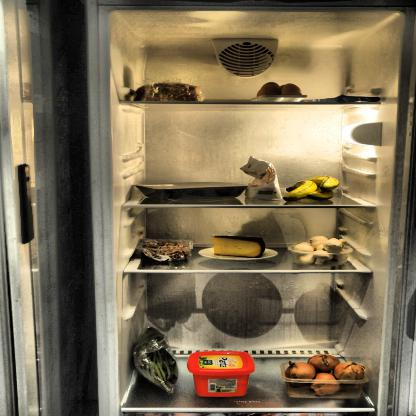banana: (283, 174, 343, 202)
butter: (188, 351, 256, 398)
cheese: (212, 235, 264, 260)
chocolate: (310, 95, 383, 104)
eggs: (256, 81, 304, 103)
green_beans: (133, 327, 180, 394)
mushrooms: (291, 235, 353, 265)
onion: (280, 352, 369, 398)
shrimp: (136, 238, 193, 263)
